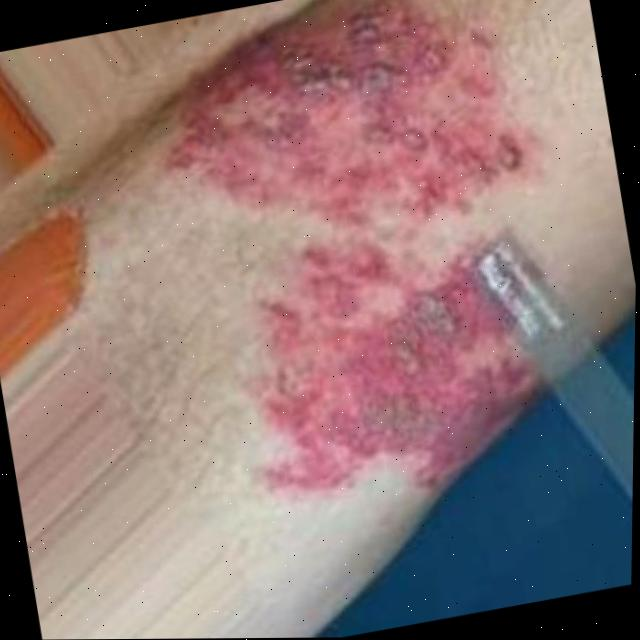Shingles: (154, 0, 583, 531)
